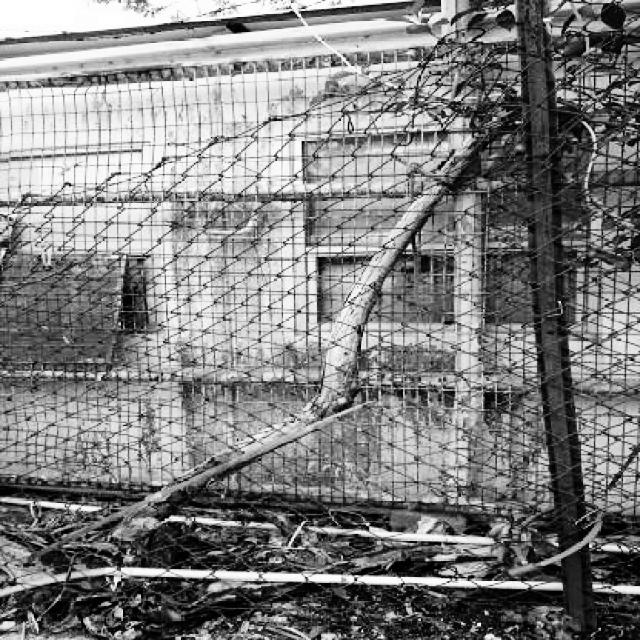anomaly-fence: (0, 0, 640, 230)
